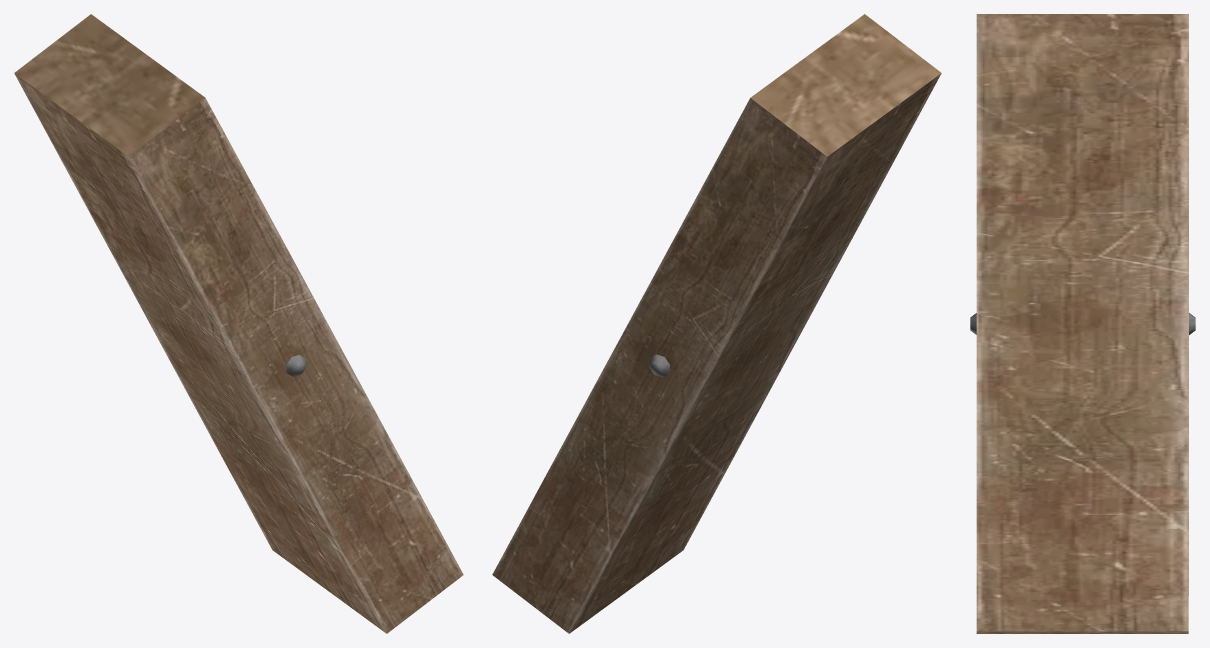
The picture shows the model from 3 angles, left to right: view 1: azimuth 30°, elevation 25°; view 2: azimuth 150°, elevation 25°; view 3: azimuth 270°, elevation 25°; orthographic projection. The views are drawn at different scales.
Parts seen in each view (by area): view 1: SM_BB_T3_Beam_Thin_Med_Steep_LOD0; view 2: SM_BB_T3_Beam_Thin_Med_Steep_LOD0; view 3: SM_BB_T3_Beam_Thin_Med_Steep_LOD0.
Boxes of the visible parts, x1,y1,x2,y2 form: SM_BB_T3_Beam_Thin_Med_Steep_LOD0: [14, 14, 463, 633]; SM_BB_T3_Beam_Thin_Med_Steep_LOD0: [492, 14, 941, 633]; SM_BB_T3_Beam_Thin_Med_Steep_LOD0: [970, 14, 1195, 633].
Bounding box in the file's own units: 0.9739 × 1.61 × 0.6112.
1 material, 1 textured.
